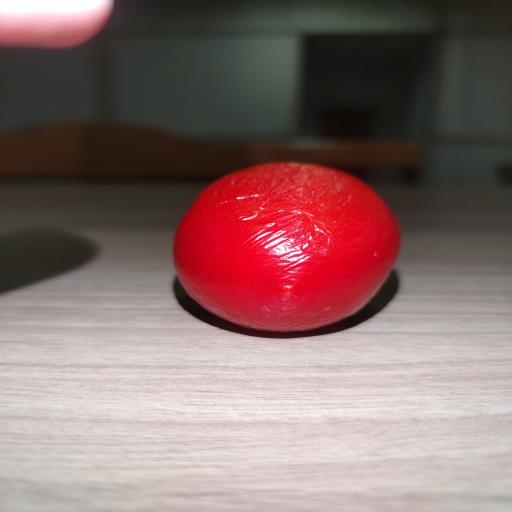spoiled: (174, 162, 400, 331)
